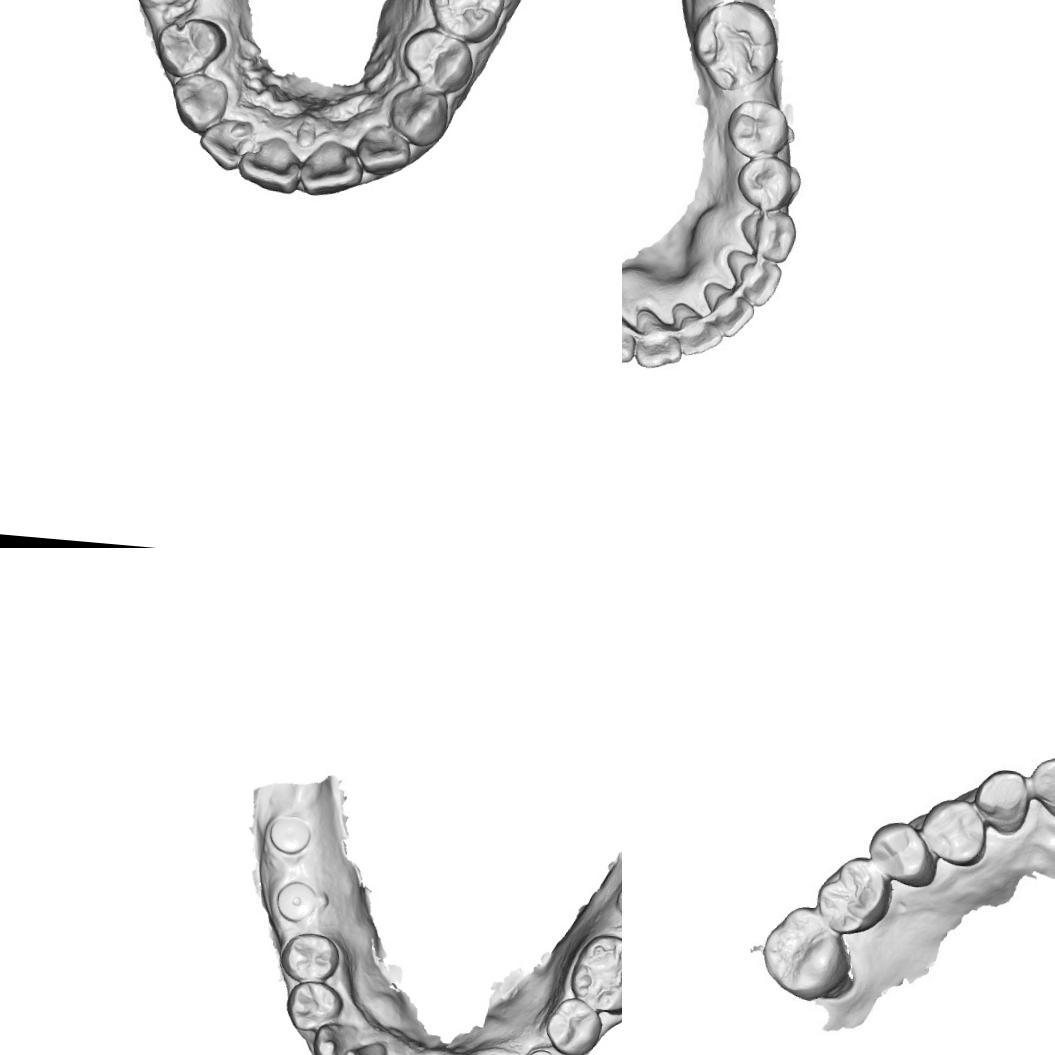canine: (970, 764, 1032, 837), (167, 69, 230, 136), (386, 83, 450, 148), (736, 207, 800, 263), (308, 1016, 352, 1055), (622, 303, 642, 367)
implant: (266, 810, 314, 861), (270, 878, 320, 924), (522, 1047, 556, 1055)
incisor: (296, 141, 364, 202), (232, 138, 303, 196), (725, 248, 784, 308), (197, 115, 255, 172), (354, 122, 411, 177), (631, 312, 684, 368), (671, 301, 718, 357), (706, 283, 754, 336), (1027, 751, 1055, 823), (343, 1036, 383, 1055)
molar: (757, 898, 855, 1008), (691, 0, 784, 94), (812, 850, 897, 940), (568, 931, 622, 1017), (425, 0, 505, 40)
premolar: (864, 816, 942, 890), (917, 794, 990, 868), (152, 12, 230, 80), (401, 26, 478, 93), (736, 150, 802, 210), (541, 994, 604, 1055), (731, 97, 788, 159), (279, 929, 341, 986), (284, 977, 345, 1033)
